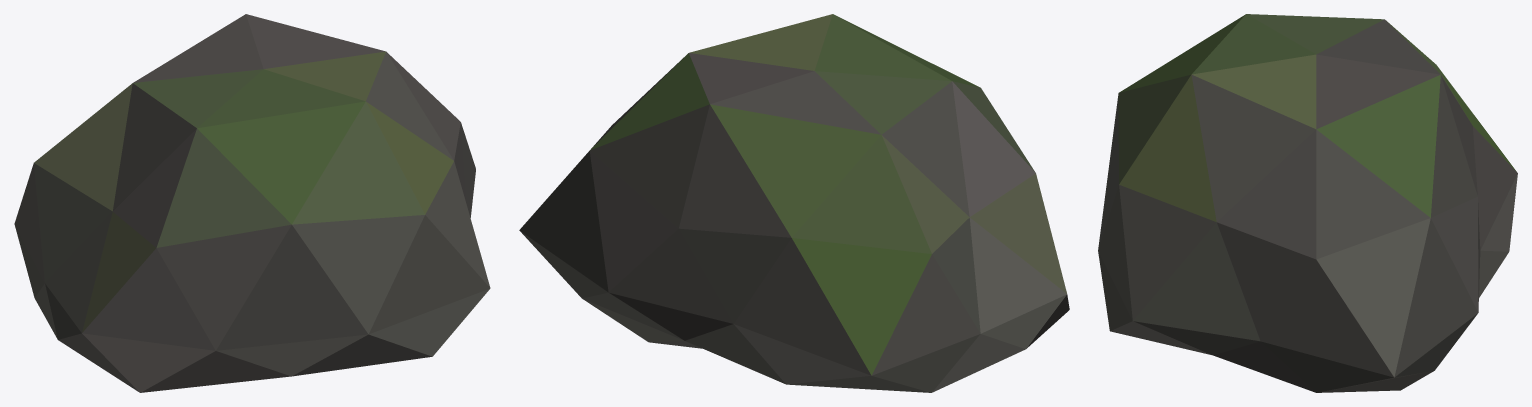
The model's file is env_andesite_c.glb.
The picture shows the model from 3 angles, left to right: view 1: azimuth 30°, elevation 25°; view 2: azimuth 150°, elevation 25°; view 3: azimuth 270°, elevation 25°; orthographic projection. The views are drawn at different scales.
Parts seen in each view (by area): view 1: env_andesite_c; view 2: env_andesite_c; view 3: env_andesite_c.
Part boxes in pixels (bbox=[...]): env_andesite_c: bbox=[14, 14, 490, 392]; env_andesite_c: bbox=[519, 14, 1069, 392]; env_andesite_c: bbox=[1098, 14, 1517, 392].
Bounding box in the file's own units: 4.12 × 2.25 × 3.1.
